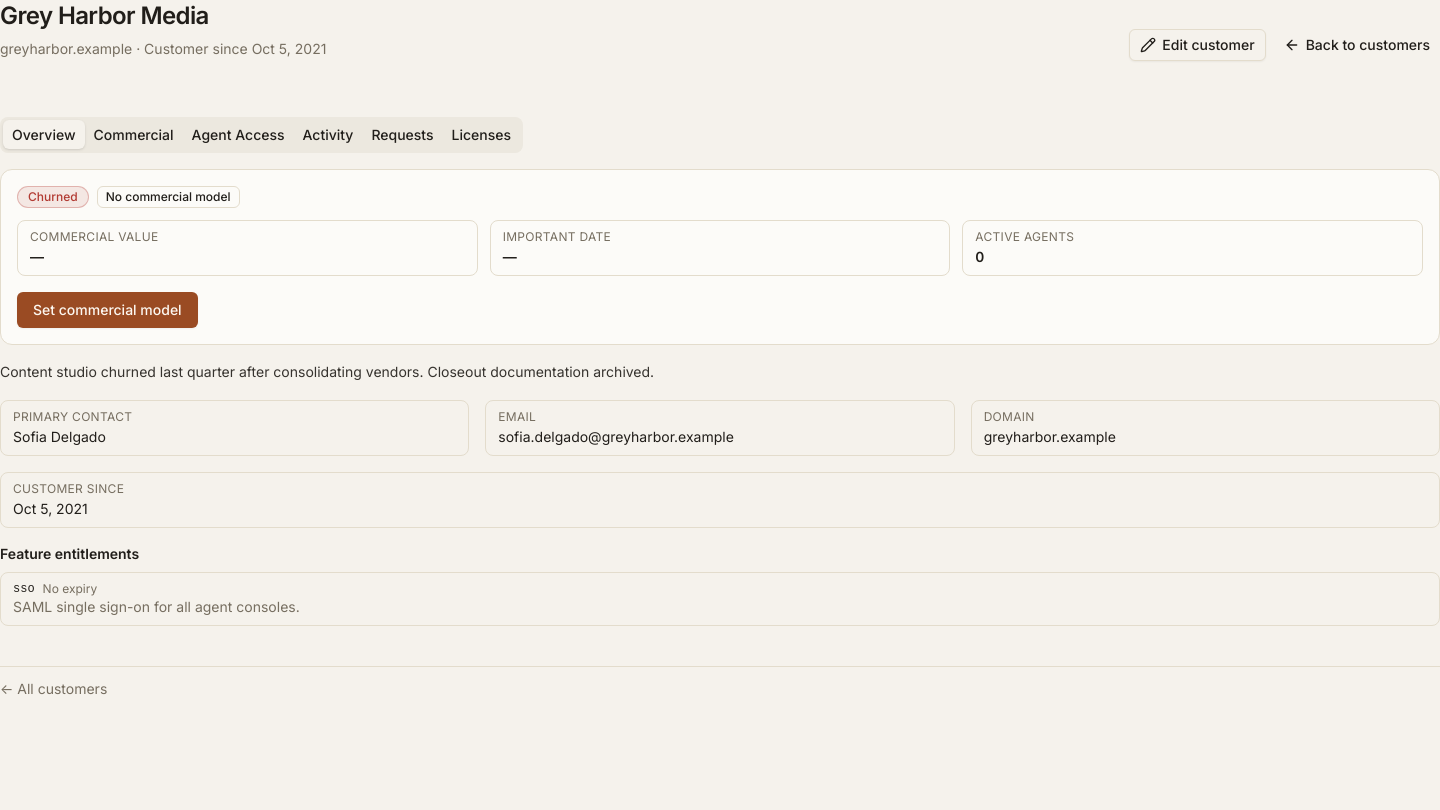
Test case: CustomerProfilePage › creates a monthly arrangement through the drawer
Click the button with test id "overview-commercial-action" at (107,310), box [17,292,198,328]
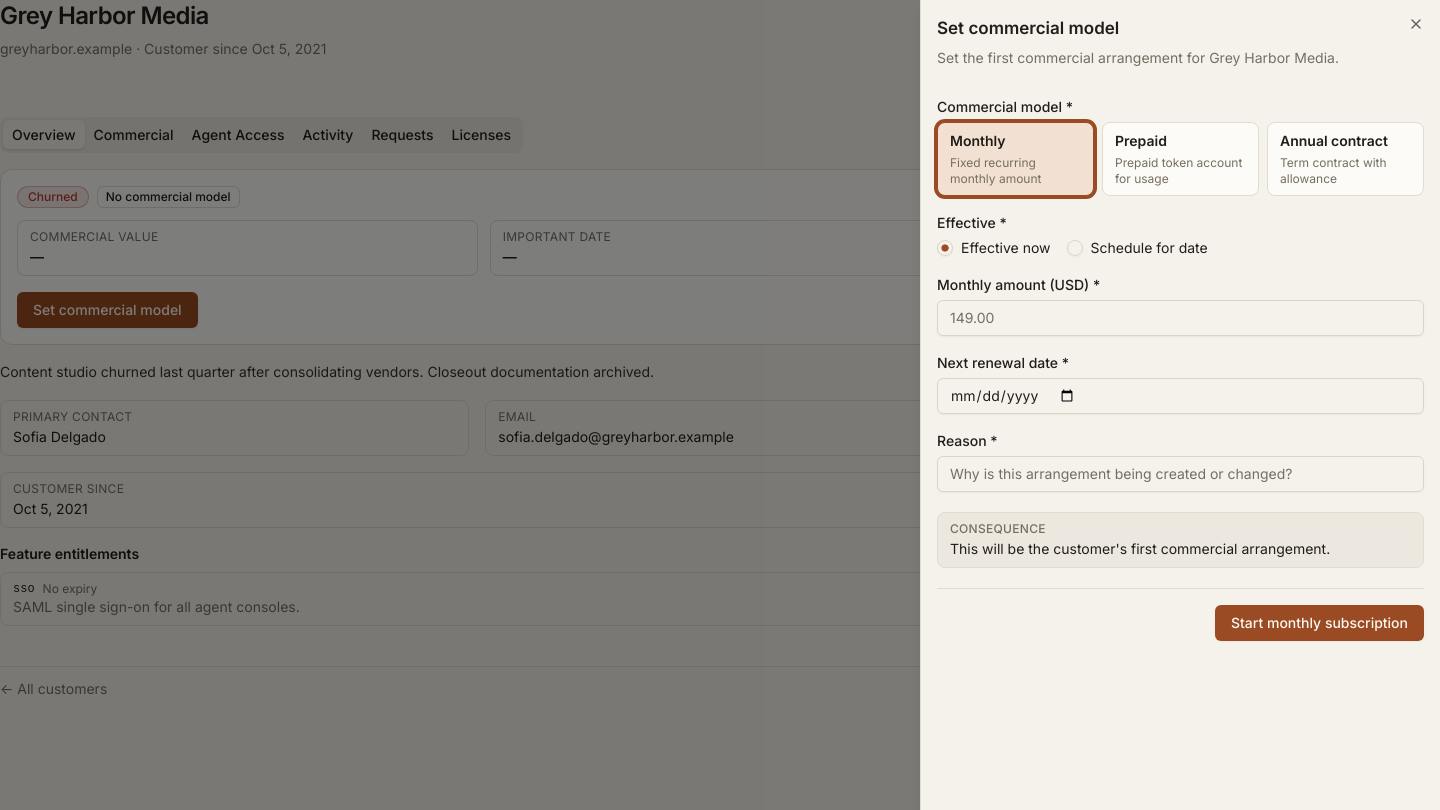
Type "199" into the number field with test id "monthly-amount" at (1180,318), box [937,300,1424,336]
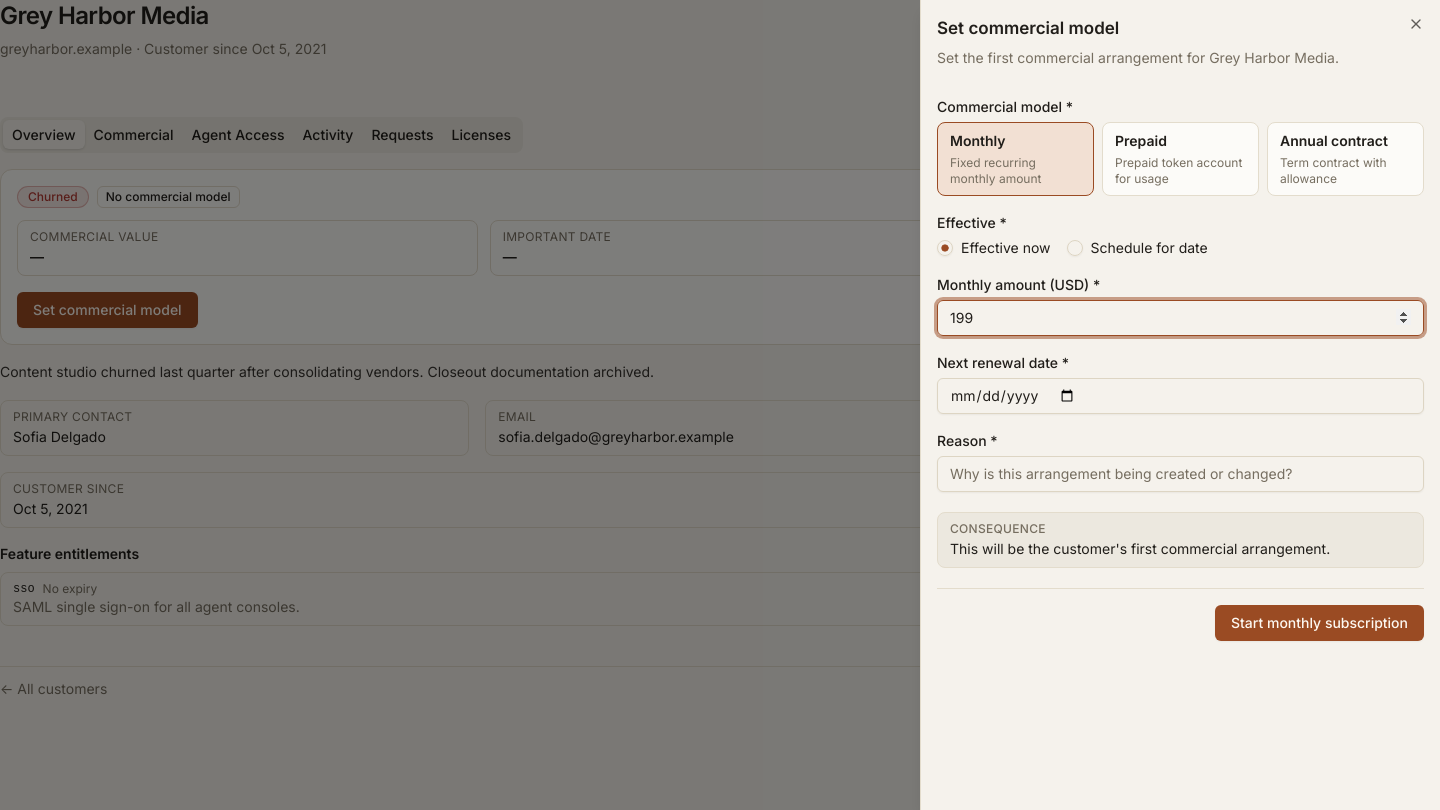
Type "2027-01-01" into the date field with test id "renews-at" at (1180,396), box [937,378,1424,414]
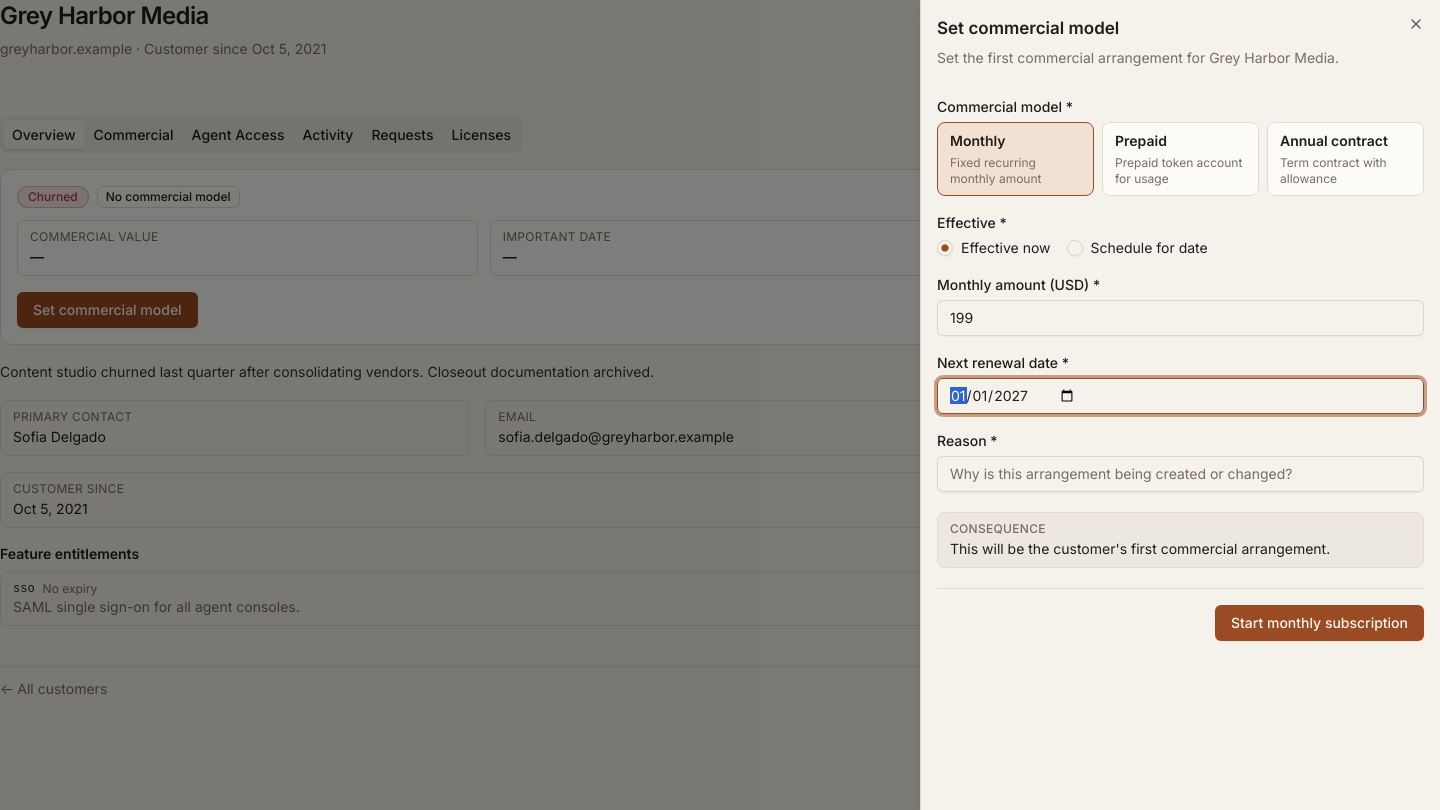
Type "Test monthly arrangement" into the field with test id "arrangement-reason" at (1180,474), box [937,456,1424,492]
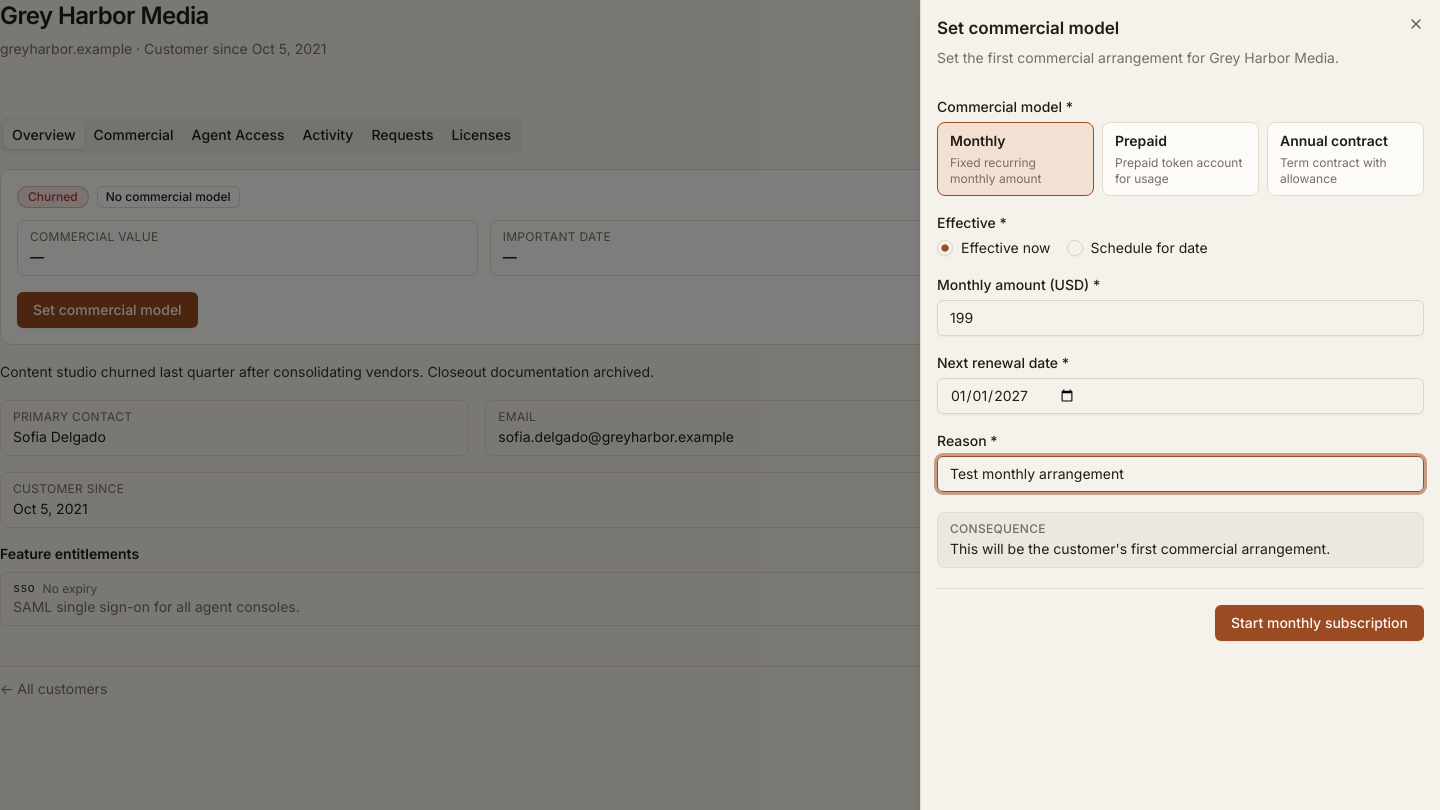
Click the button with test id "submit-commercial-arrangement" at (1320,622), box [1215,604,1424,640]
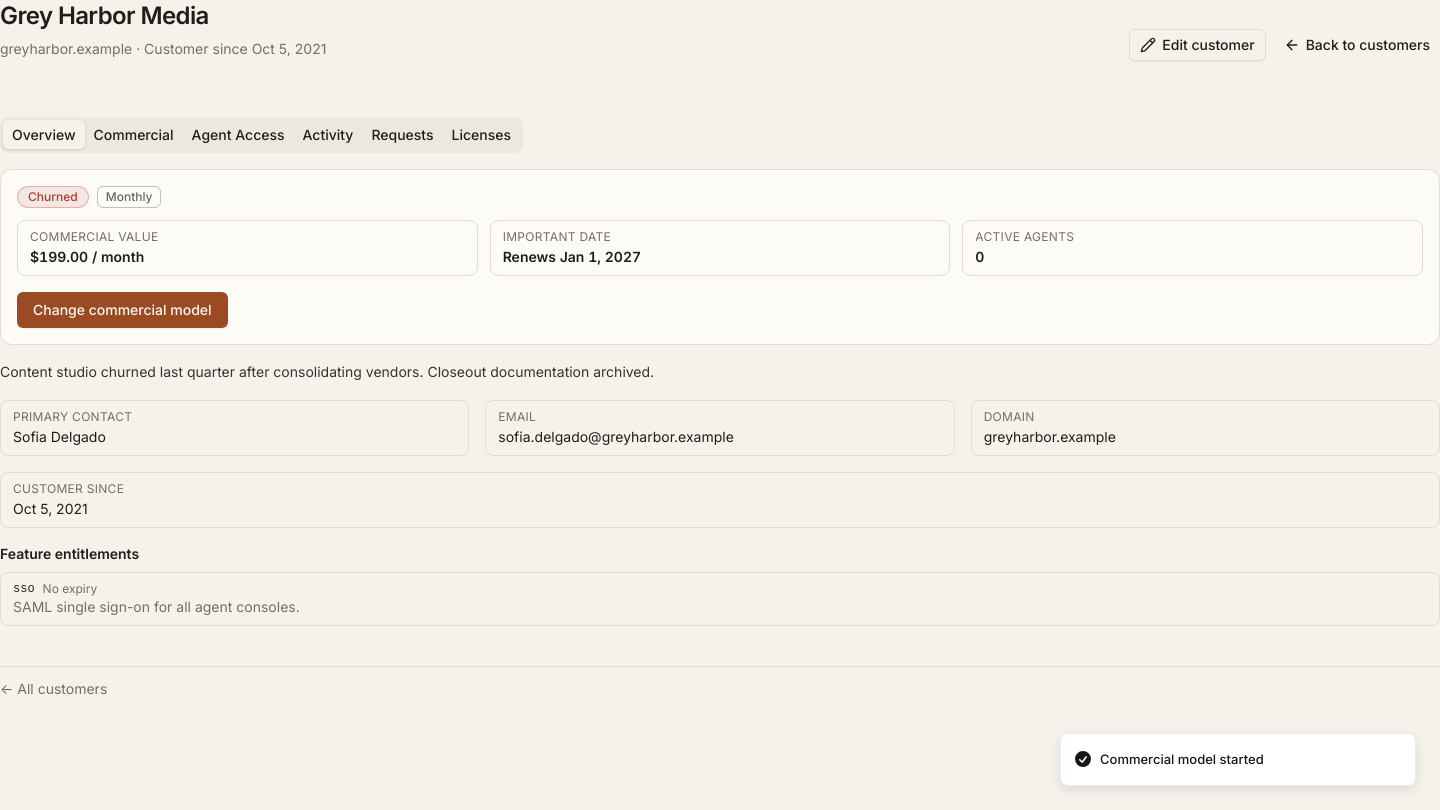
Check: the dialog with test id "commercial-sheet" is gone
Check: the text "Commercial model started" is shown, box [1100,750,1264,769]
